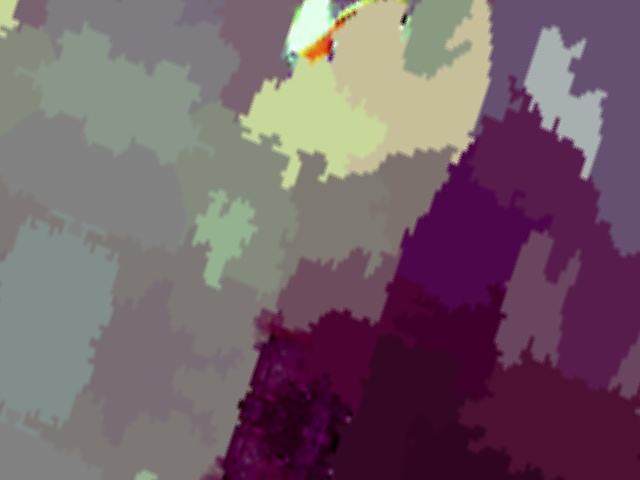two: (396, 68, 446, 131)
